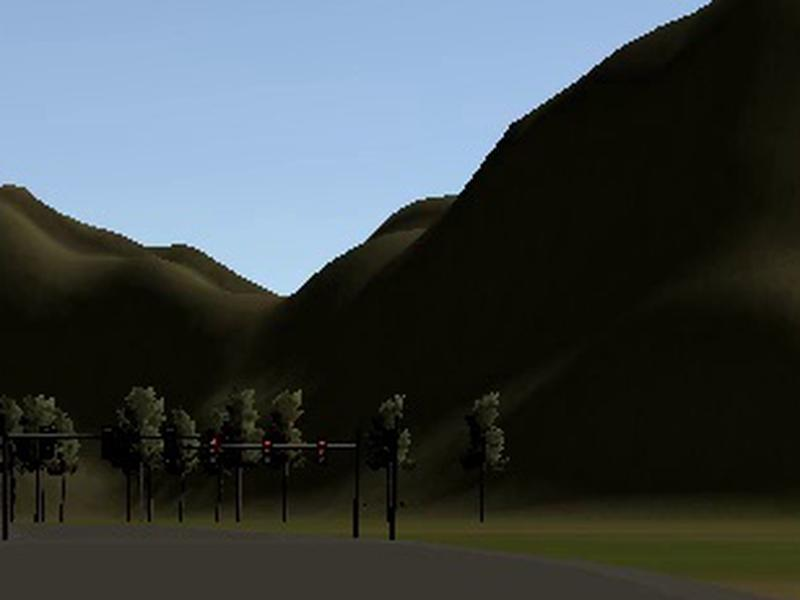Red: (260, 437, 273, 467), (205, 435, 218, 465), (316, 436, 329, 466)
